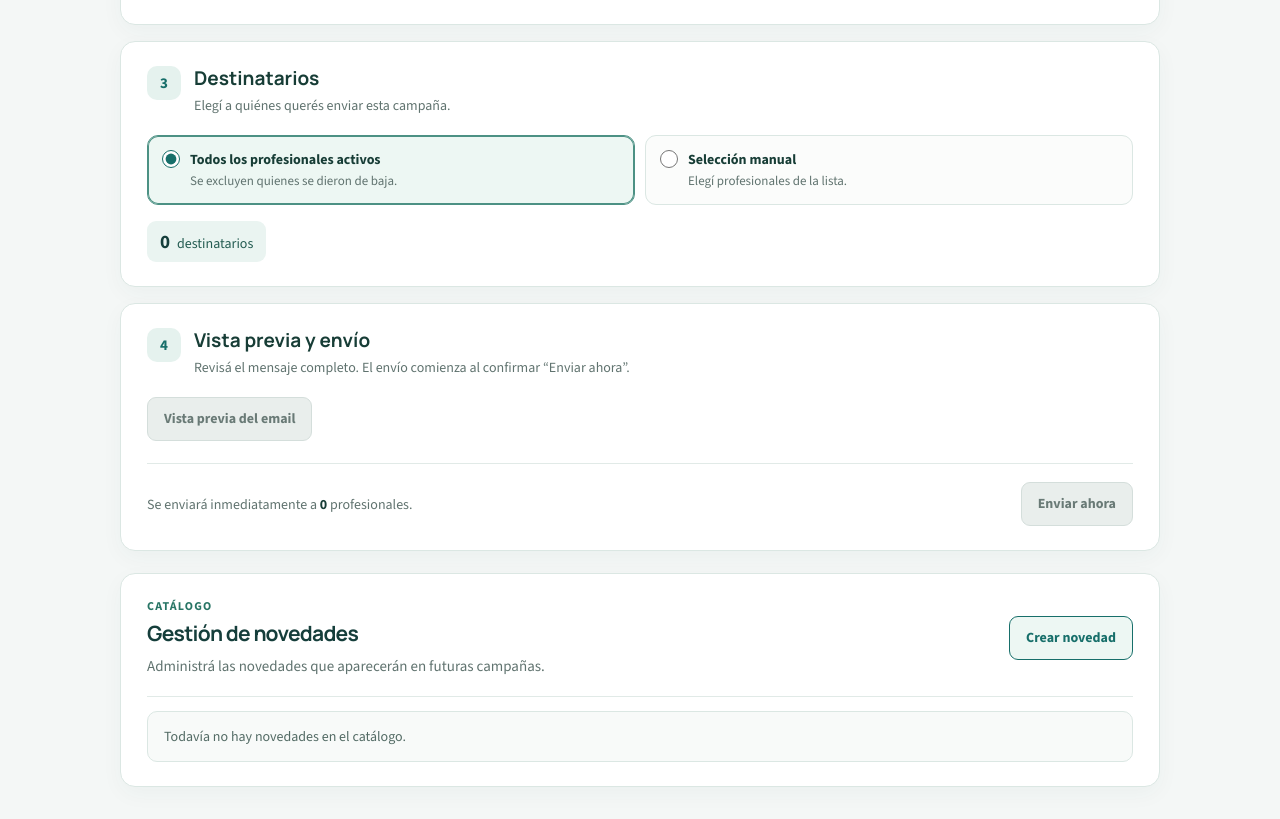
Test case: CampaniasAdmin › crea una novedad enviando sólo los campos permitidos
(page scrolled)
Click the button "Crear novedad".
click(1071, 638)  # box [1009,616,1133,660]
(page scrolled)
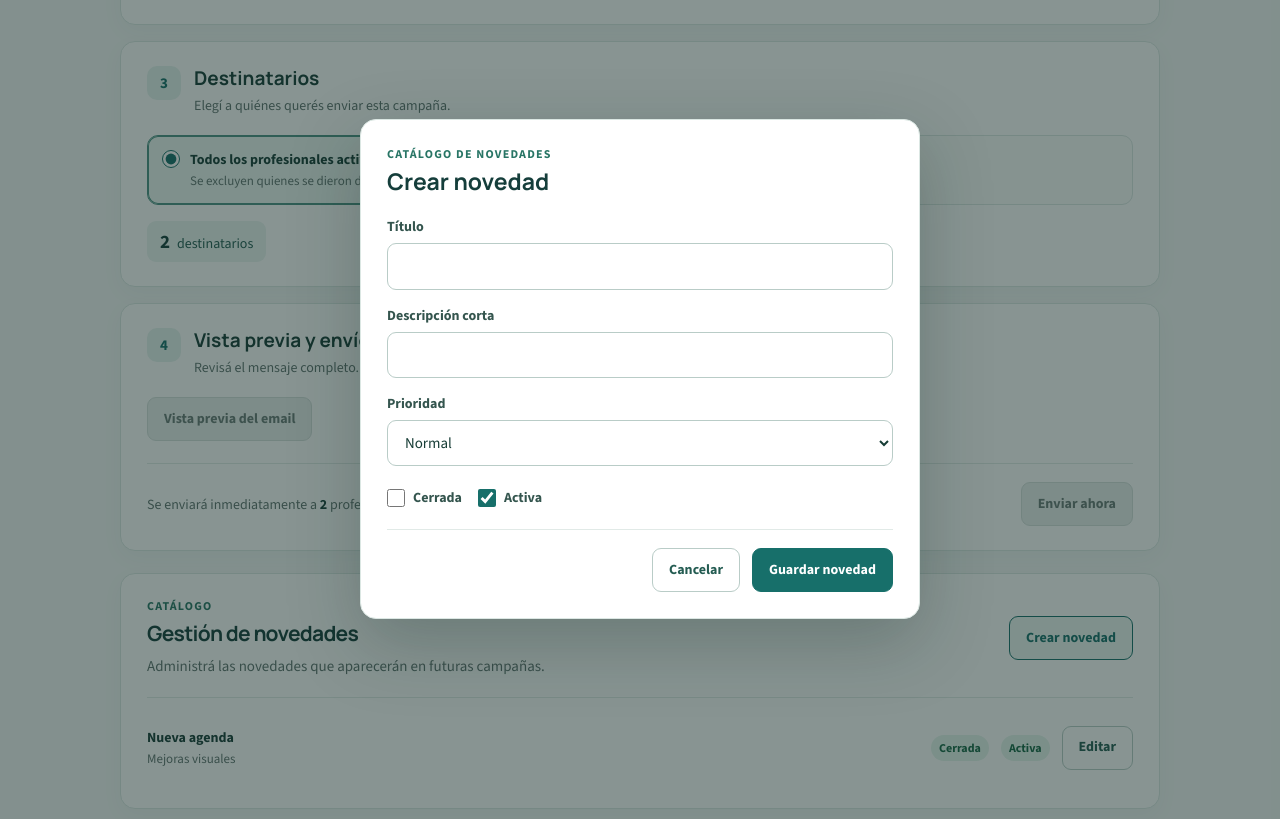
Type "Agenda renovada" into the field labelled "Título".
click(640, 267); type("Agenda renovada")  # box [387,243,893,290]
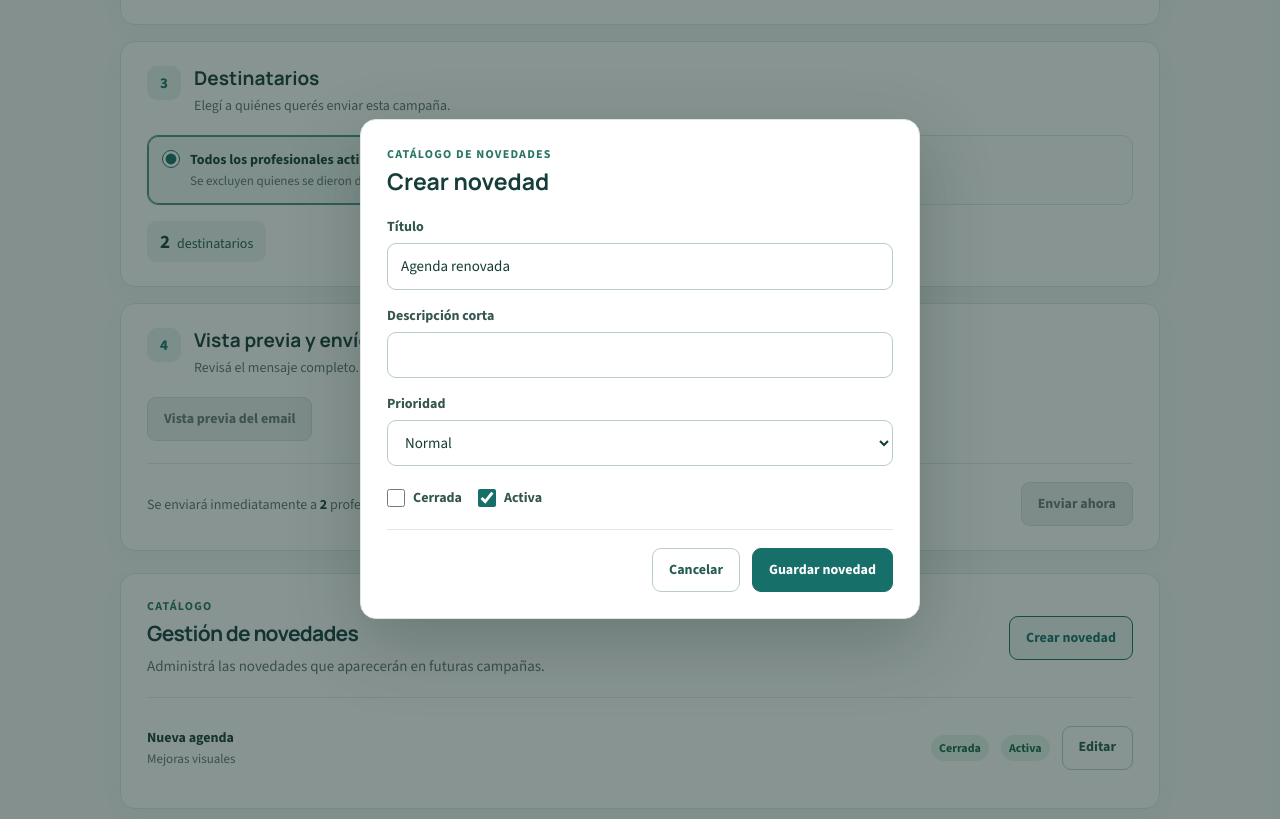
Type "Nueva vista semanal" into the field labelled "Descripción corta".
click(640, 355); type("Nueva vista semanal")  # box [387,332,893,378]
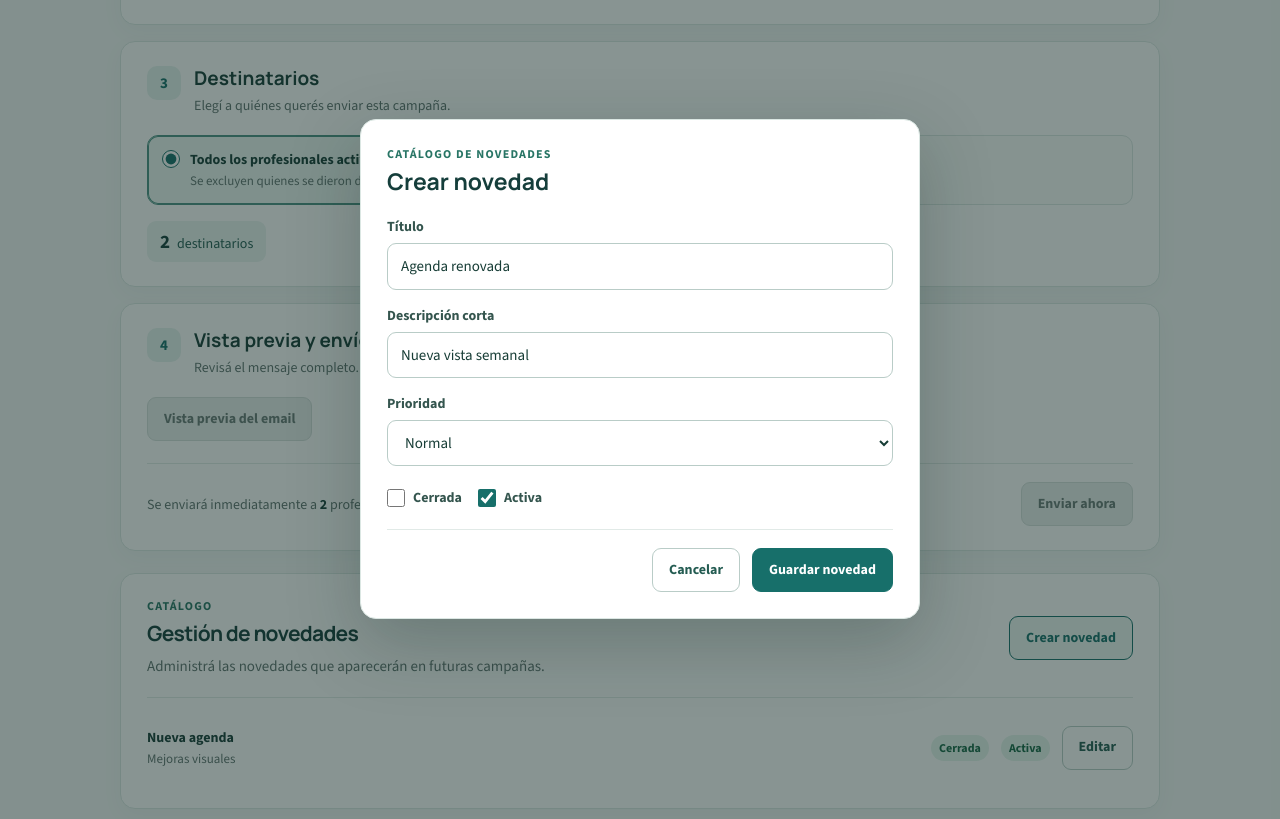
Click the button "Guardar novedad".
click(822, 570)  # box [752,548,893,592]
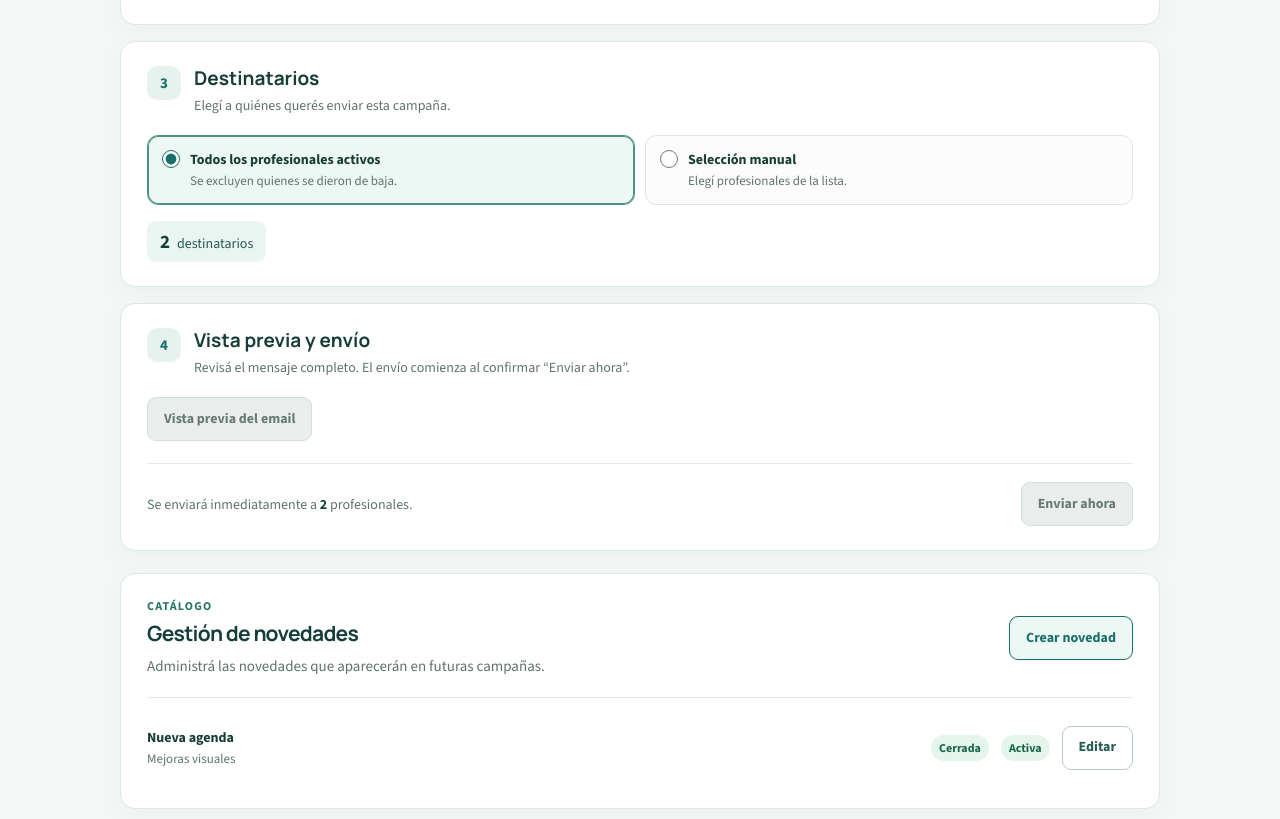
expect the dialog is gone: met
